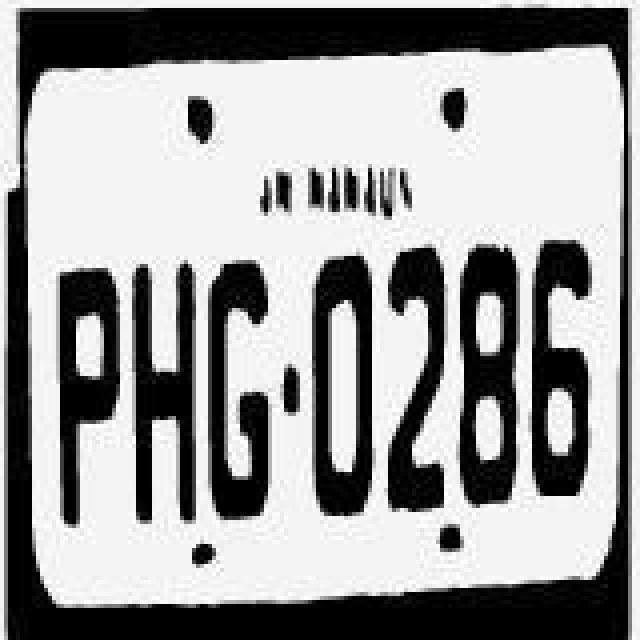2: (384, 242, 456, 526)
6: (526, 230, 594, 514)
8: (454, 228, 522, 508)
G: (204, 252, 276, 532)
H: (124, 256, 204, 528)
O: (310, 250, 378, 534)
P: (44, 254, 124, 530)
